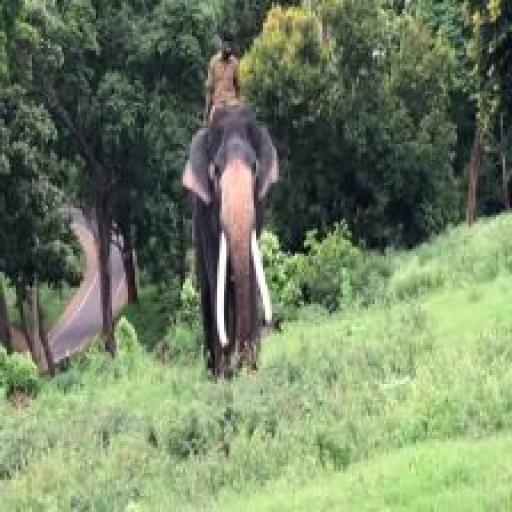Elephant: (178, 100, 289, 391)
